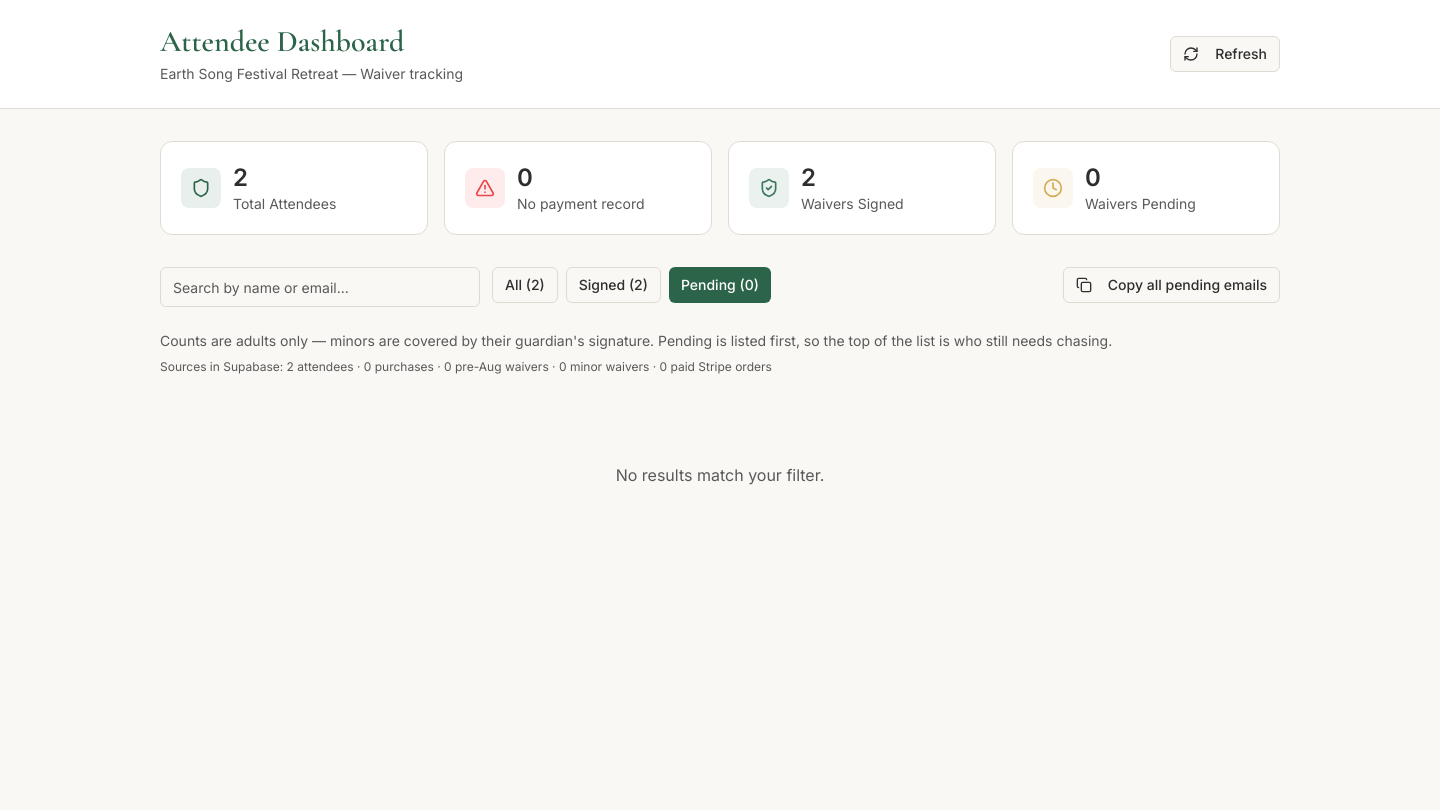
Test: available actions › offers undo on a paper mark but never on a Smartwaiver signature
Click the button "all (2)".
click(525, 285)  # box [492,267,558,303]
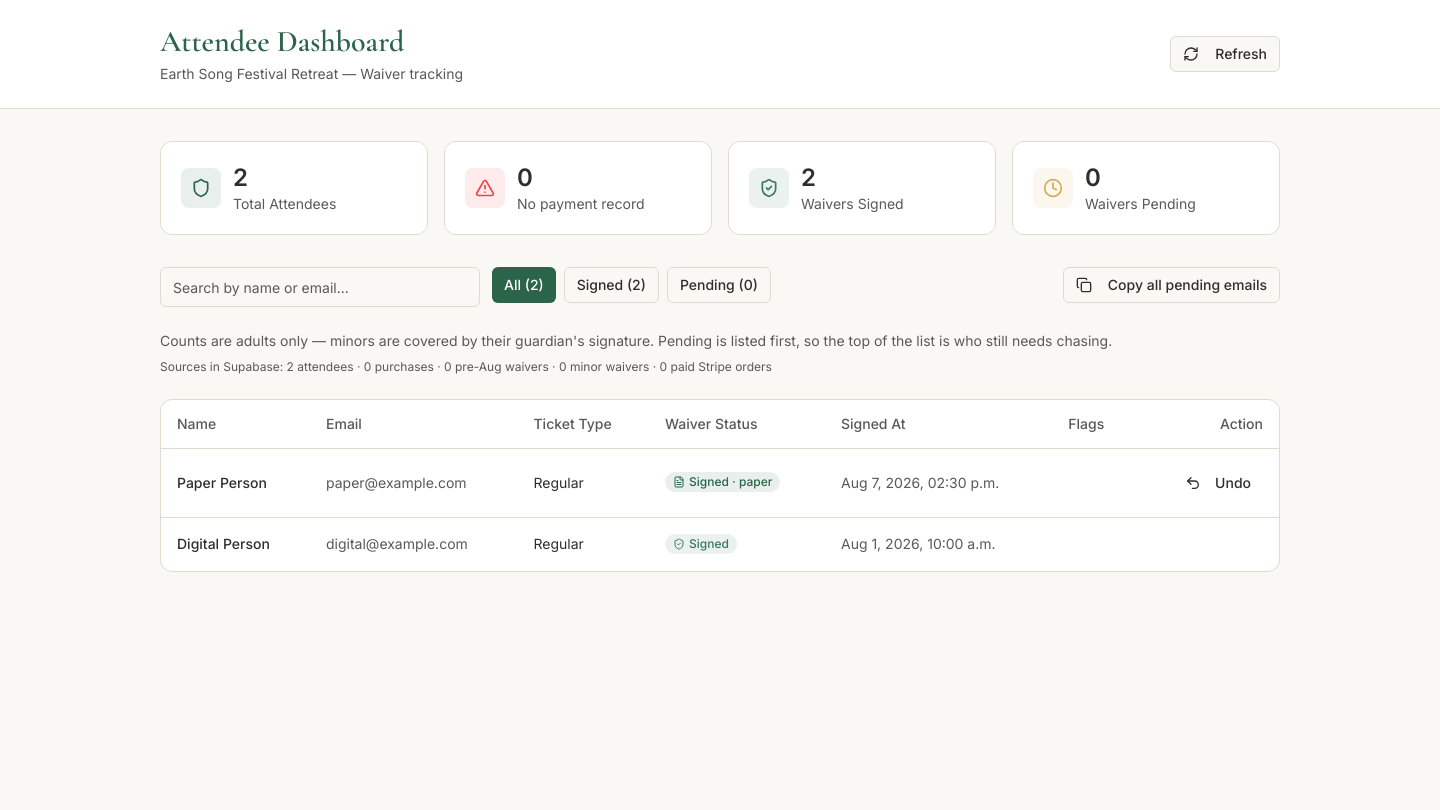
expect the button "Undo" is shown: met, box [1173,464,1263,500]
